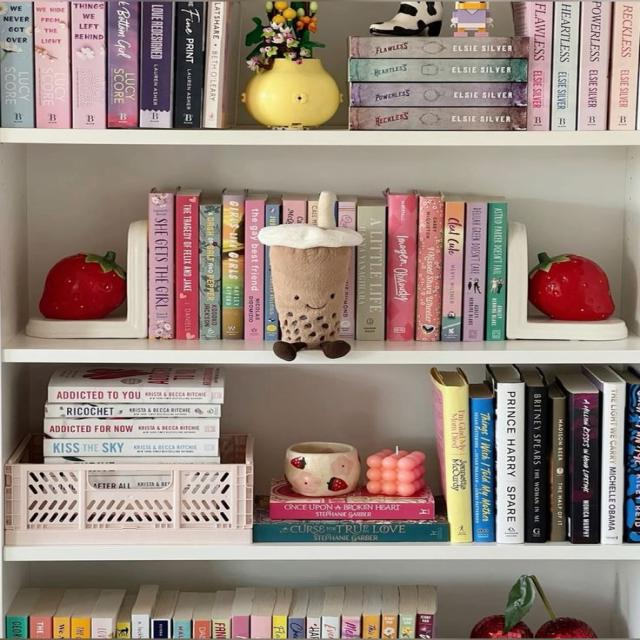book: (385, 191, 417, 341), (577, 1, 612, 130), (495, 384, 523, 544), (351, 82, 526, 107), (35, 0, 69, 128), (71, 1, 105, 129), (139, 1, 173, 128), (446, 389, 474, 543), (415, 193, 444, 341), (107, 0, 140, 128), (0, 1, 33, 127), (173, 2, 206, 128), (571, 393, 598, 543), (350, 107, 526, 130), (608, 1, 639, 130), (148, 191, 174, 339), (526, 386, 550, 541), (349, 60, 526, 81), (350, 37, 527, 58), (550, 2, 579, 130), (175, 191, 200, 339), (43, 418, 219, 438), (243, 195, 267, 340), (463, 201, 488, 340), (525, 3, 552, 130), (602, 384, 623, 544), (484, 202, 508, 341), (203, 1, 229, 128), (222, 191, 244, 339), (359, 207, 383, 341), (252, 525, 451, 541), (45, 438, 218, 456), (441, 201, 463, 341), (45, 401, 221, 418), (473, 400, 494, 540), (49, 387, 224, 403), (271, 502, 434, 518), (552, 398, 568, 542), (201, 205, 218, 339), (628, 384, 640, 541), (264, 250, 279, 339), (283, 196, 306, 223), (264, 198, 281, 226)
candle: (366, 450, 425, 497)
